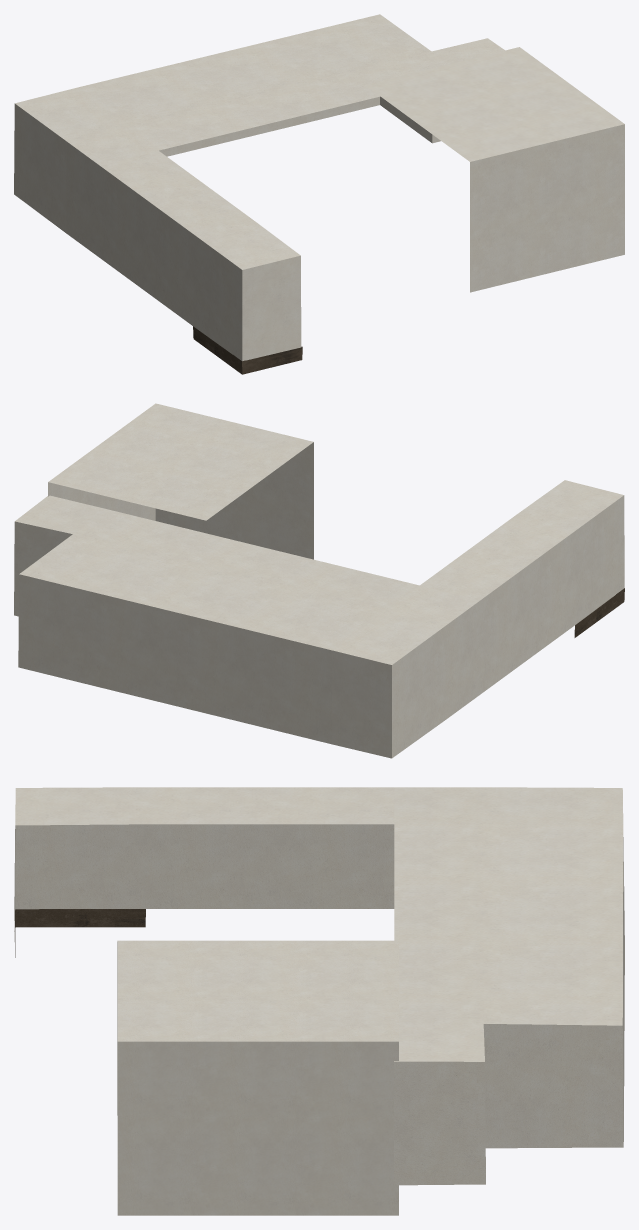
File: roof.fbx
3 views of the same model, one above another, from view 1: azimuth 30°, elevation 25°; view 2: azimuth 150°, elevation 25°; view 3: azimuth 270°, elevation 25° (orthographic). The views are drawn at different scales.
Visible parts, largest first — view 1: 立方体.017, 立方体.018; view 2: 立方体.017, 立方体.018; view 3: 立方体.017, 立方体.018.
Part boxes in pixels (box(x1,y1,x2,y2)): 立方体.017: box(14, 14, 504, 374); 立方体.018: box(365, 47, 624, 292); 立方体.017: box(14, 480, 624, 758); 立方体.018: box(48, 403, 313, 559); 立方体.017: box(14, 787, 624, 1185); 立方体.018: box(117, 940, 398, 1215).
Size of the model in its own units: 1357 by 399 by 1269.
